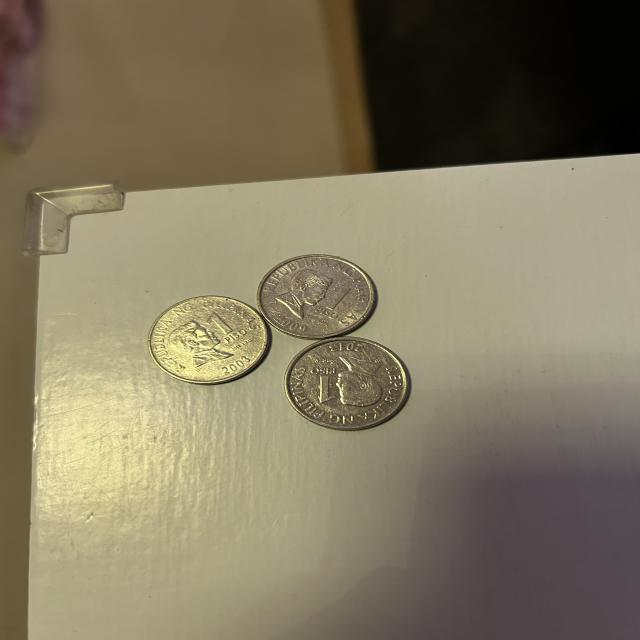1_Old_Front: (307, 360, 341, 411), (318, 282, 357, 324), (202, 312, 247, 348)
